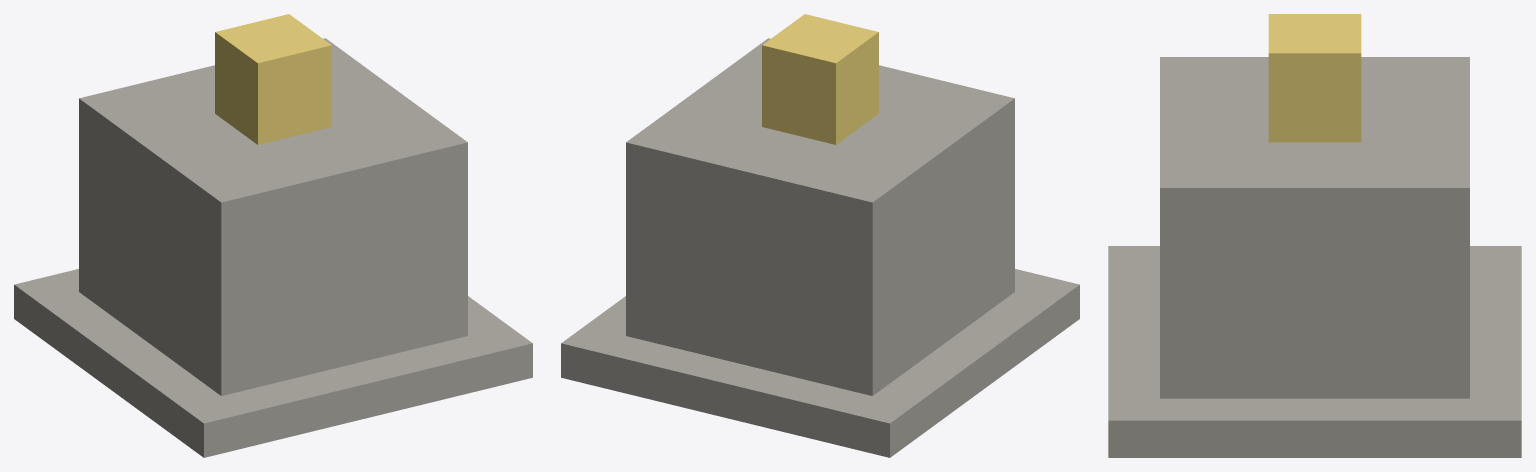
Rendered from switch.glb.
3 renders of one model, left to right at view 1: azimuth 30°, elevation 25°; view 2: azimuth 150°, elevation 25°; view 3: azimuth 270°, elevation 25°, orthographic. The views are drawn at different scales.
Parts seen in each view (by area): view 1: Switch; view 2: Switch; view 3: Switch.
Boxes of the visible parts, x1=… form: Switch: x1=14, y1=14, x2=532, y2=457; Switch: x1=561, y1=14, x2=1079, y2=457; Switch: x1=1108, y1=14, x2=1521, y2=457.
Bounding box in the file's own units: 0.8 × 0.72 × 0.8.
